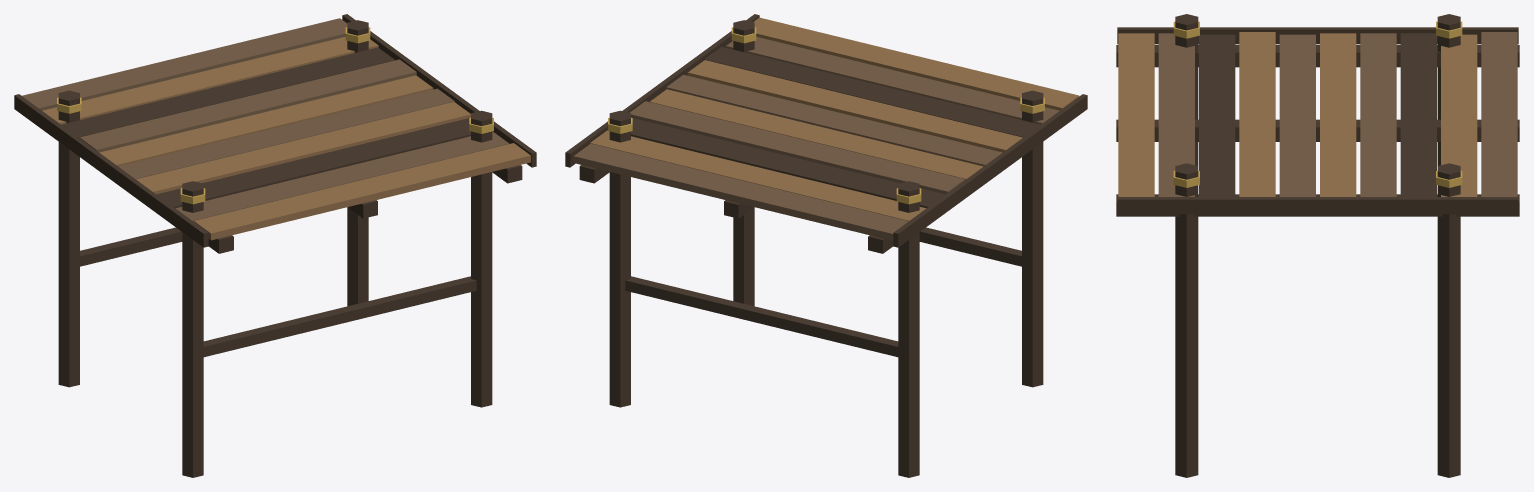
File: dock_section.glb
The picture shows the model from 3 angles, left to right: view 1: azimuth 30°, elevation 25°; view 2: azimuth 150°, elevation 25°; view 3: azimuth 270°, elevation 25°; orthographic projection. The views are drawn at different scales.
Parts seen in each view (by area): view 1: dock_section; view 2: dock_section; view 3: dock_section.
Boxes of the visible parts, box(x1,y1,x2,y2) form: dock_section: box(14, 14, 536, 477); dock_section: box(565, 14, 1087, 477); dock_section: box(1116, 14, 1519, 477).
Size of what is drawn, in the model's own units: 4.04 by 3.32 by 4.
2 materials, 2 textured.
